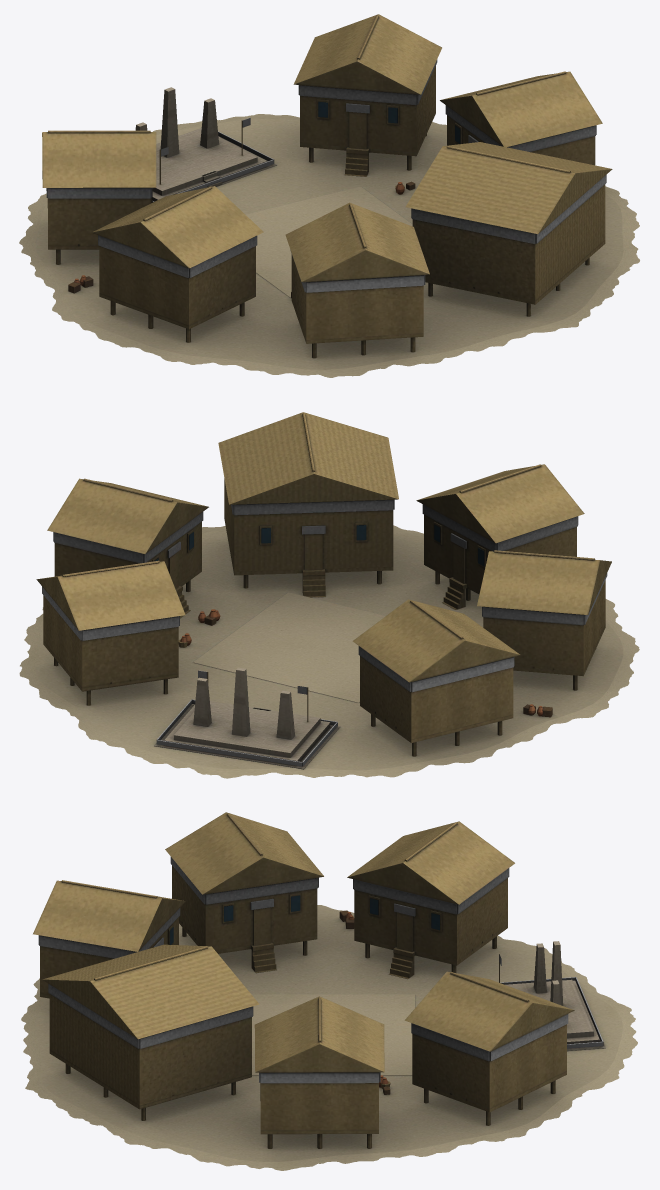
File: bronze-town-small-b-monsoon.glb
3 views of the same model, one above another, from view 1: azimuth 30°, elevation 25°; view 2: azimuth 150°, elevation 25°; view 3: azimuth 270°, elevation 25° (orthographic).
Visible parts, largest first — view 1: LOD0; view 2: LOD0; view 3: LOD0.
Part boxes in pixels (left/top/right/bottom): LOD0: left=19, top=14, right=639, bottom=377; LOD0: left=19, top=412, right=639, bottom=778; LOD0: left=21, top=812, right=637, bottom=1170.
Size of what is drawn, in the model's own units: 4.03 by 0.867 by 3.95.
Materials: 3 (3 with a texture image).
